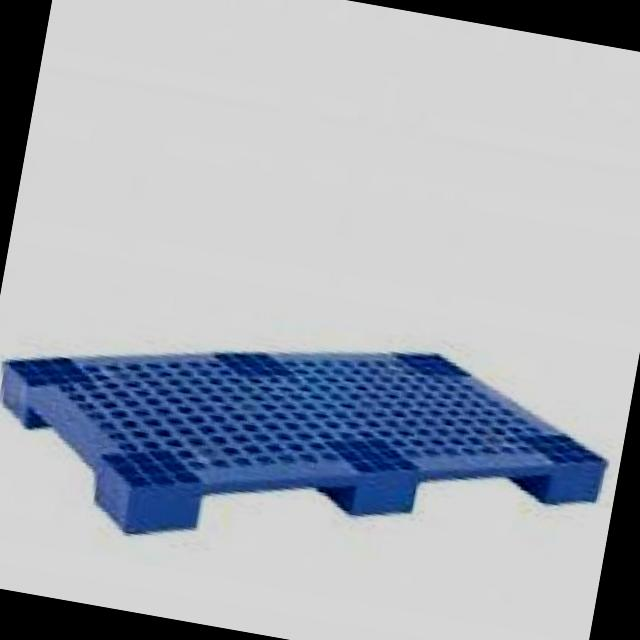pallet: (0, 264, 626, 615)
